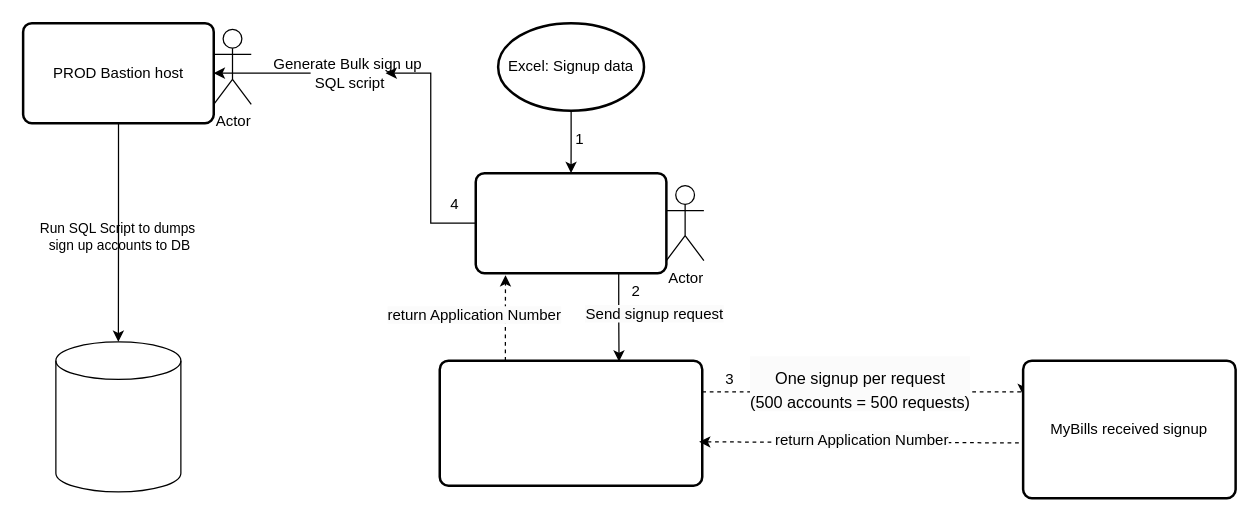
Image size: 1258x520. Some labels were removed from this diagram. Here are the shapes that lost their labels. From the top down, the centre of each, then its label:
pixel 570 222: DEV Machine Use python script to extract data from excel
pixel 118 416: PROD DB
pixel 570 422: Boomi
